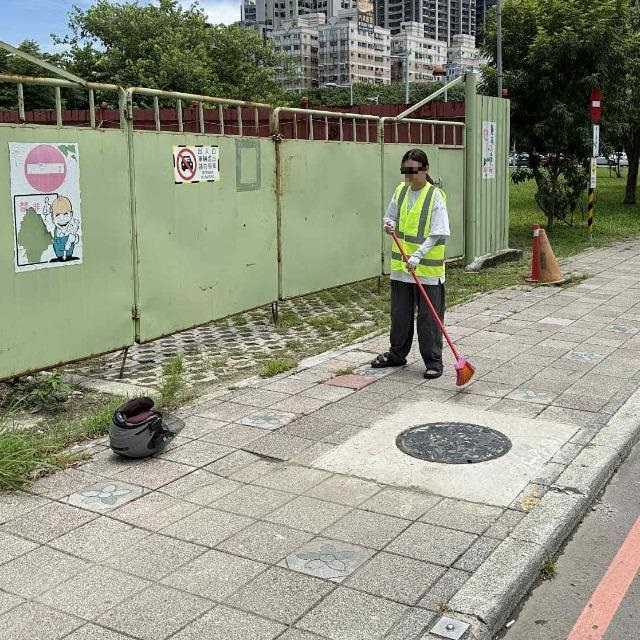NoHelmet: (399, 146, 438, 190)
